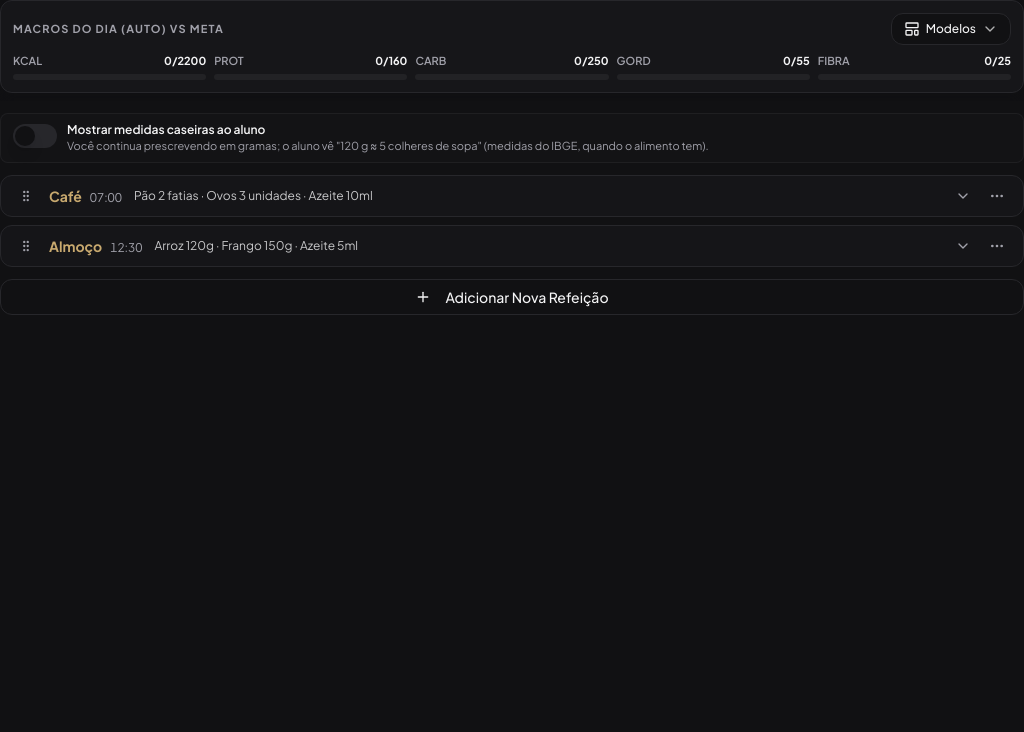
Test: Aba Dieta enxuta › observações aparecem só quando o coach pede
The width and height of the screenshot is (1024, 732).
Click the button with test id "meal-summary-1". click: (76, 246)
box: left=45, top=232, right=943, bottom=260
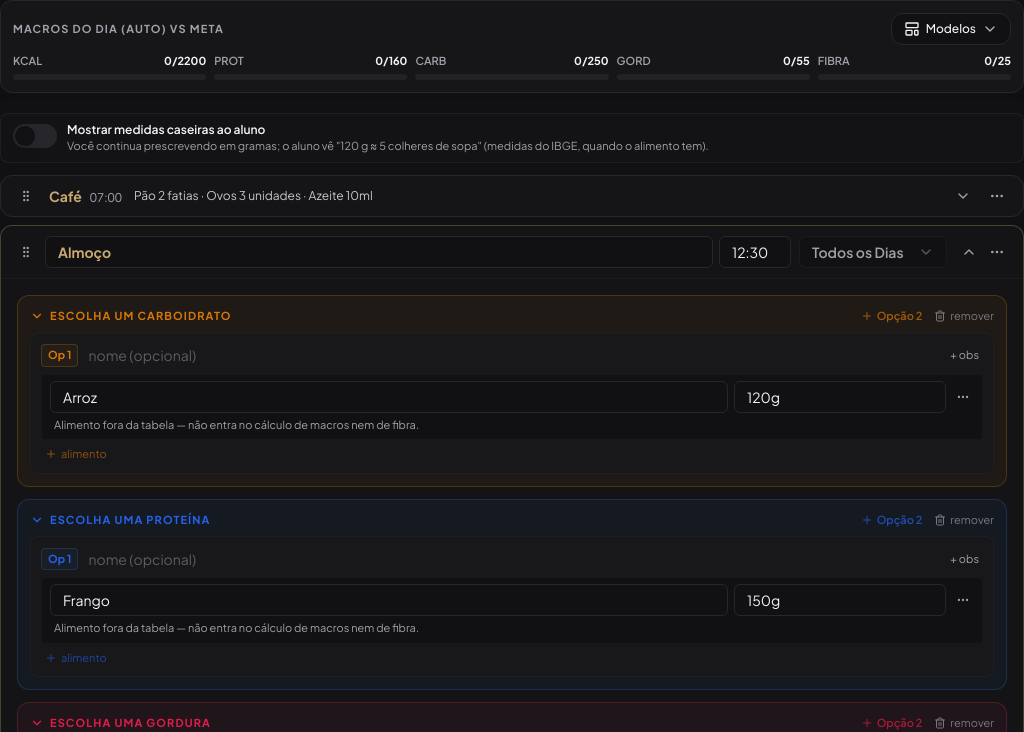
Check: the field with placeholder "tomar 30 min após o treino" is not shown
Click the button with test id "option-notes-add-1-carb-0". click: (965, 356)
box: left=946, top=347, right=983, bottom=364
(page scrolled)
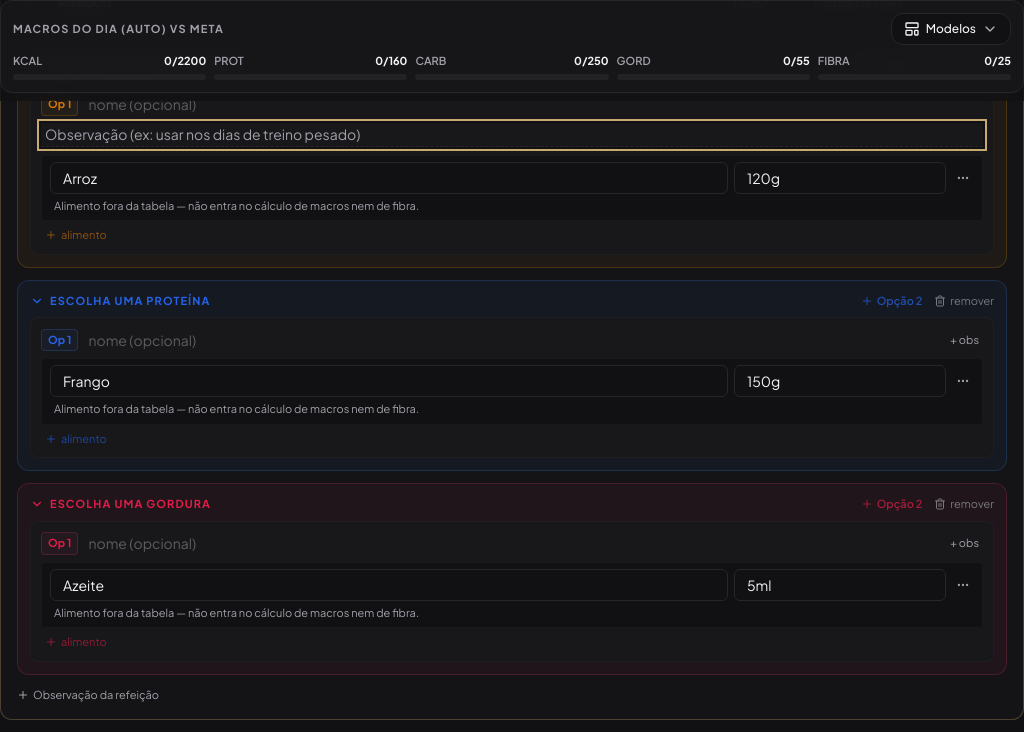
Check: the field named "Observação da opção" is shown, box left=41, top=122, right=983, bottom=146
Click the button with test id "meal-notes-add-1". click: (88, 695)
box: left=17, top=686, right=159, bottom=703
(page scrolled)
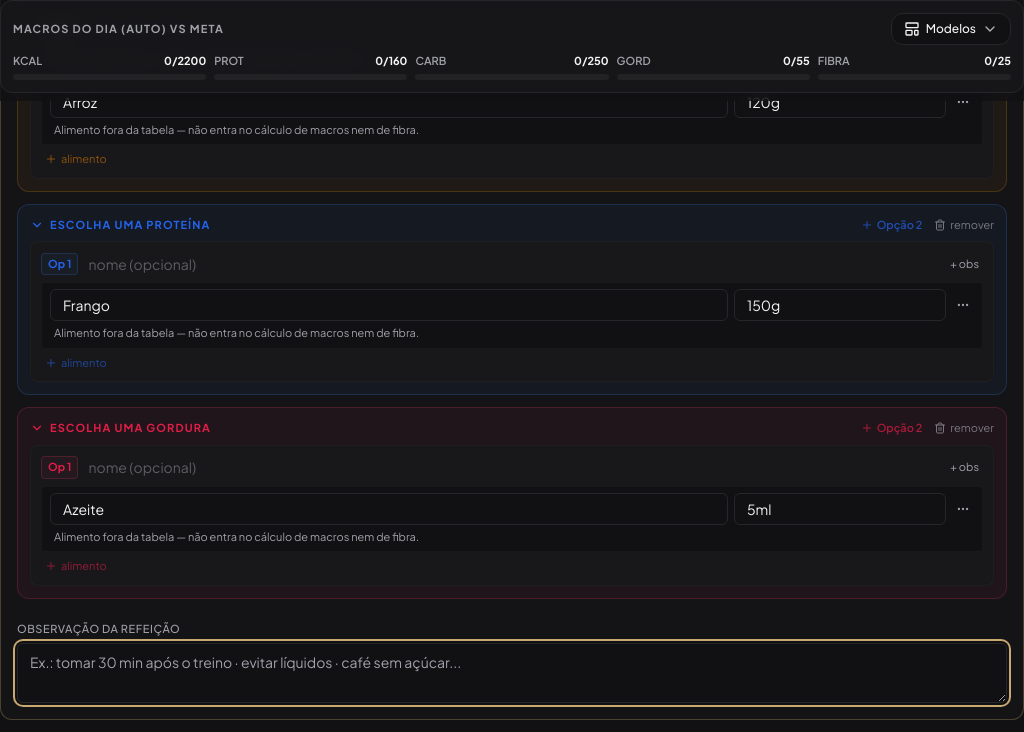
Check: the text box with placeholder "tomar 30 min após o treino" is shown, box left=17, top=642, right=1007, bottom=702
